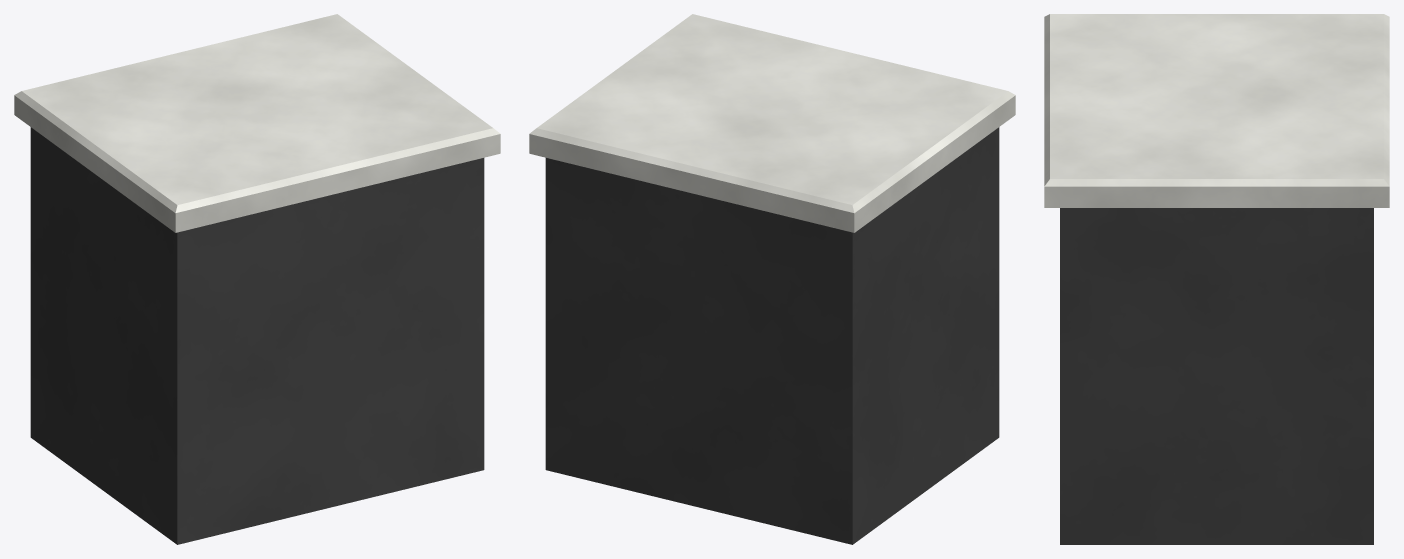
Rendered from KitchenPiece.fbx.
The picture shows the model from 3 angles, left to right: view 1: azimuth 30°, elevation 25°; view 2: azimuth 150°, elevation 25°; view 3: azimuth 270°, elevation 25°; orthographic projection. The views are drawn at different scales.
Parts seen in each view (by area): view 1: Kitchen_Piece; view 2: Kitchen_Piece; view 3: Kitchen_Piece.
Boxes of the visible parts, x1,y1,x2,y2 form: Kitchen_Piece: (14, 14, 500, 544); Kitchen_Piece: (529, 14, 1015, 544); Kitchen_Piece: (1044, 14, 1389, 544).
Size of the model in its own units: 101 by 102 by 86.51.
Materials: 1 (1 with a texture image).
